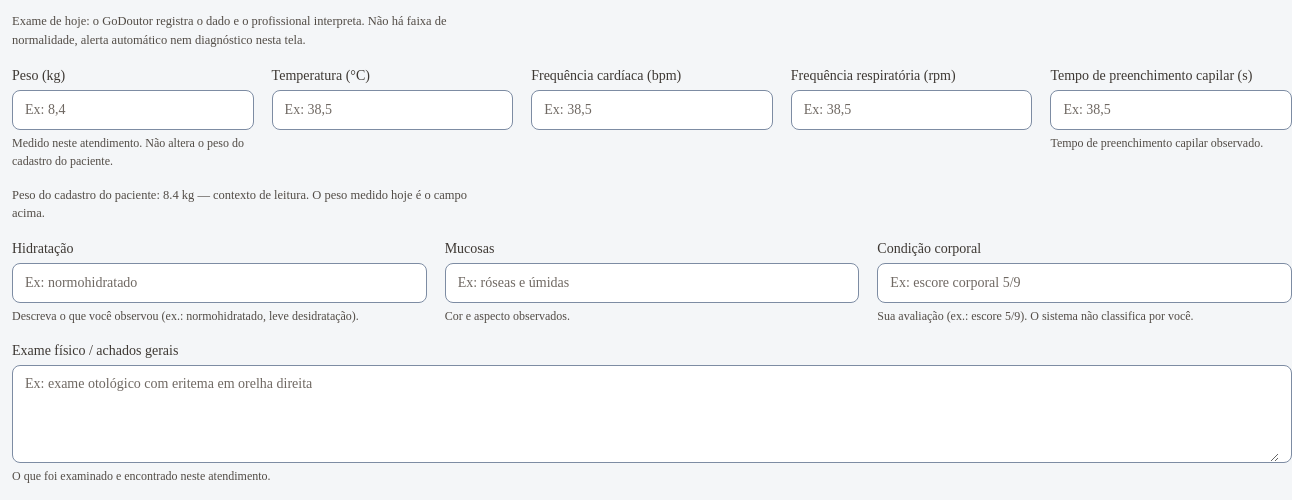
Scenario: F1B1 · seção Avaliação veterinária (unidade × valor) › vírgula e ponto são a MESMA mudança: "9,1" grava UMA vez e o "9.1" do servidor não vira pendência
The image size is (1292, 500).
In the field labelled "Peso (kg)": coordinates (133, 110) [25,90,241,128], type "9,1"
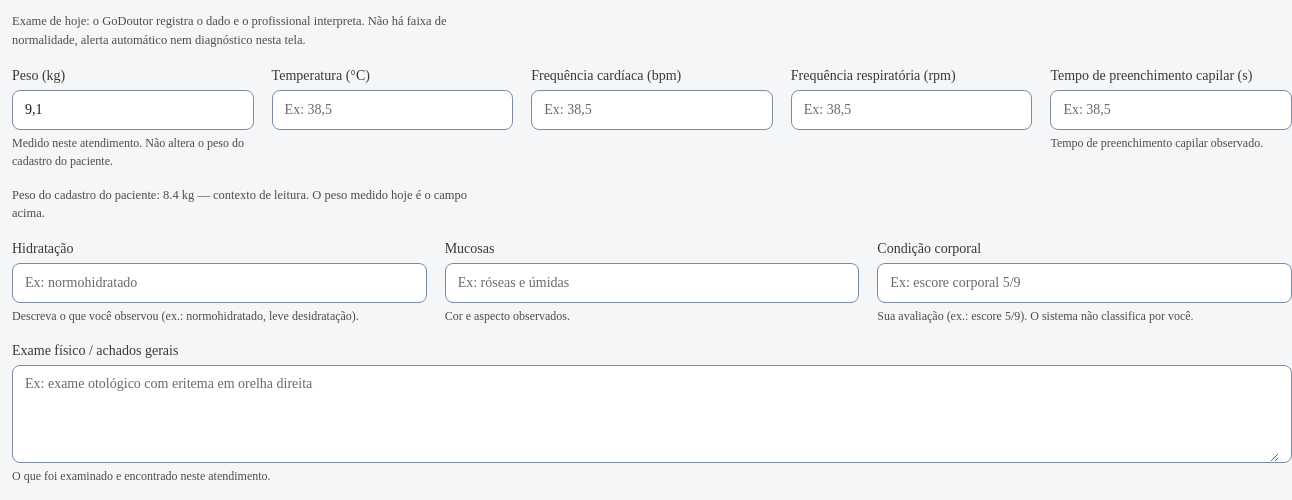
In the field labelled "Temperatura (°C)": coordinates (392, 110) [285,90,500,128], type "38,4"
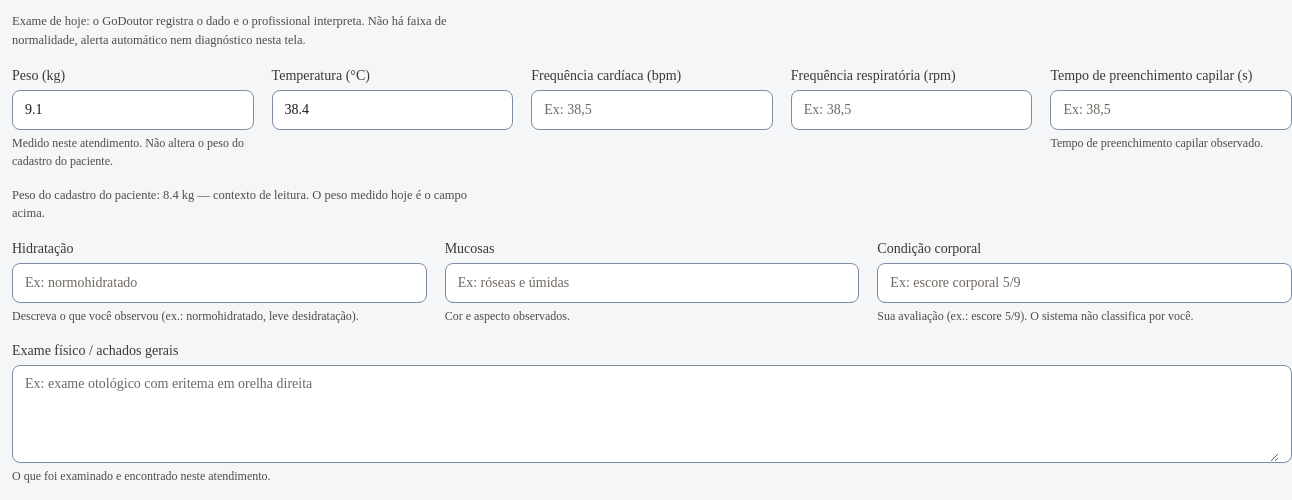
Check: the field labelled "Peso (kg)" holds "9.1", box [25,90,241,128]
Check: the field labelled "Temperatura (°C)" holds "38.4", box [285,90,500,128]
